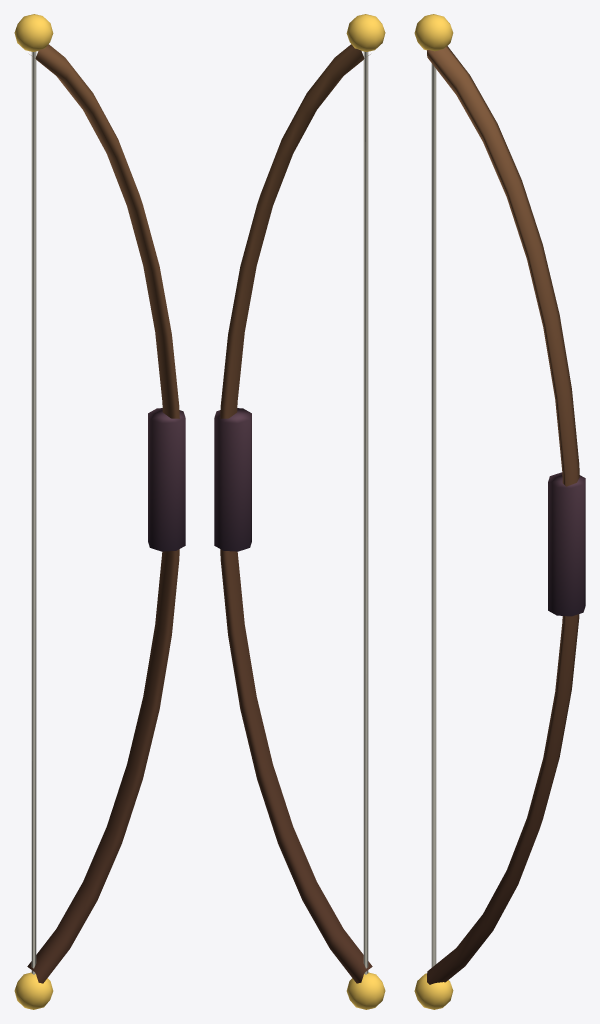
The model's file is bow_wood.glb.
The picture shows the model from 3 angles, left to right: view 1: azimuth 30°, elevation 25°; view 2: azimuth 150°, elevation 25°; view 3: azimuth 330°, elevation 25°; orthographic projection.
Parts seen in each view (by area): view 1: bow_wood; view 2: bow_wood; view 3: bow_wood.
Part boxes in pixels (bbox=[...]): bow_wood: bbox=[14, 14, 185, 1009]; bow_wood: bbox=[214, 14, 385, 1009]; bow_wood: bbox=[414, 14, 585, 1009].
Bounding box in the file's own units: 0.2174 × 1.24 × 0.044.
